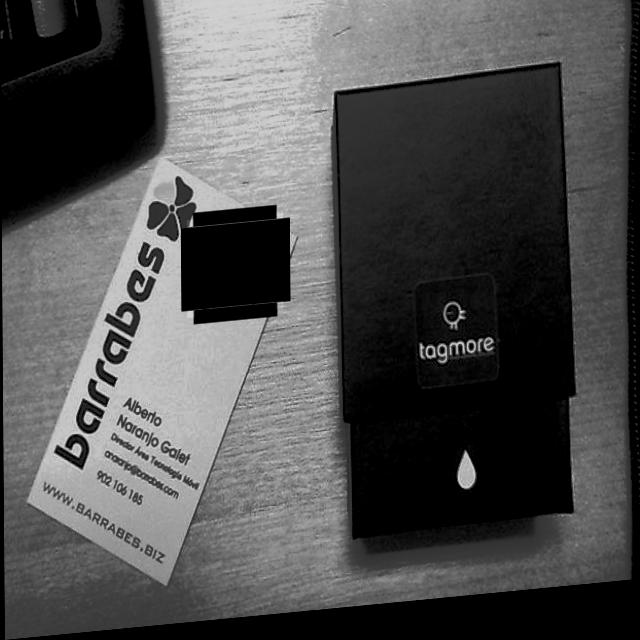qr_code: (186, 217, 283, 322)
